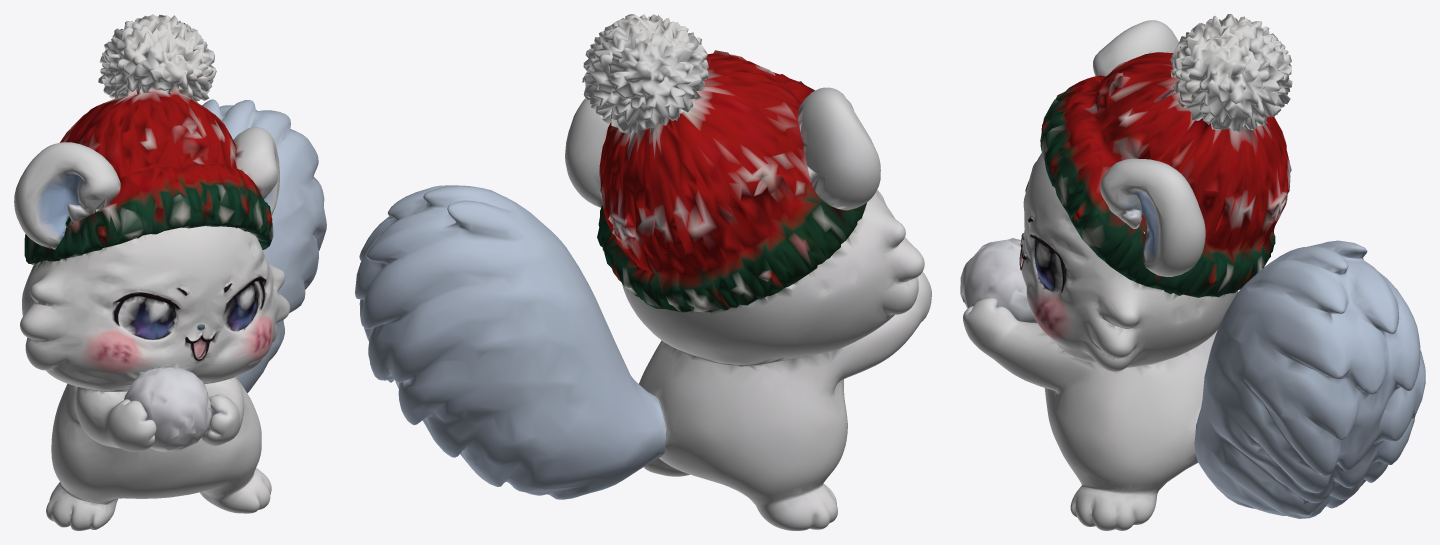
Rendered from squirrel.glb.
3 views of the same model, side by side, from view 1: azimuth 30°, elevation 25°; view 2: azimuth 150°, elevation 25°; view 3: azimuth 270°, elevation 25° (orthographic). The views are drawn at different scales.
Visible parts, largest first — view 1: model_part0, model_part5, model_part2, model_part4, model_part1, model_part3; view 2: model_part2, model_part5, model_part0, model_part4, model_part3; view 3: model_part2, model_part0, model_part5, model_part3, model_part1, model_part4.
Part boxes in pixels (left/top/right/bottom): model_part0: left=20, top=226, right=289, bottom=530; model_part5: left=24, top=14, right=273, bottom=264; model_part2: left=202, top=99, right=326, bottom=392; model_part4: left=14, top=142, right=120, bottom=249; model_part1: left=124, top=366, right=212, bottom=452; model_part3: left=233, top=127, right=279, bottom=215; model_part2: left=355, top=185, right=665, bottom=499; model_part5: left=582, top=14, right=866, bottom=312; model_part0: left=622, top=189, right=931, bottom=530; model_part4: left=797, top=87, right=880, bottom=210; model_part3: left=565, top=98, right=610, bottom=207; model_part2: left=1194, top=240, right=1425, bottom=518; model_part0: left=963, top=153, right=1238, bottom=530; model_part5: left=1040, top=14, right=1292, bottom=297; model_part3: left=1100, top=158, right=1205, bottom=276; model_part1: left=960, top=238, right=1037, bottom=323; model_part4: left=1093, top=20, right=1178, bottom=76.
Bounding box in the file's own units: 1.78 × 1.9 × 1.66.
